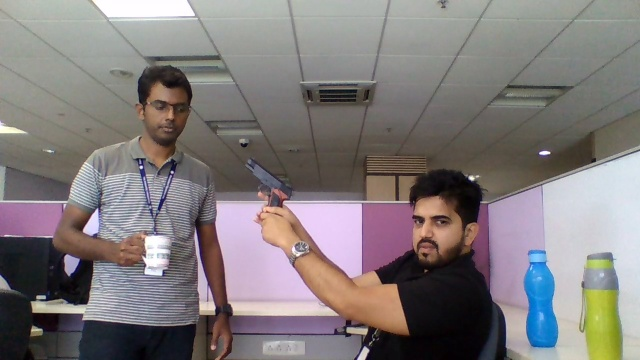gun: (243, 157, 295, 208)
